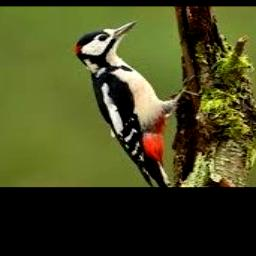Woodpecker: (76, 20, 202, 187)
